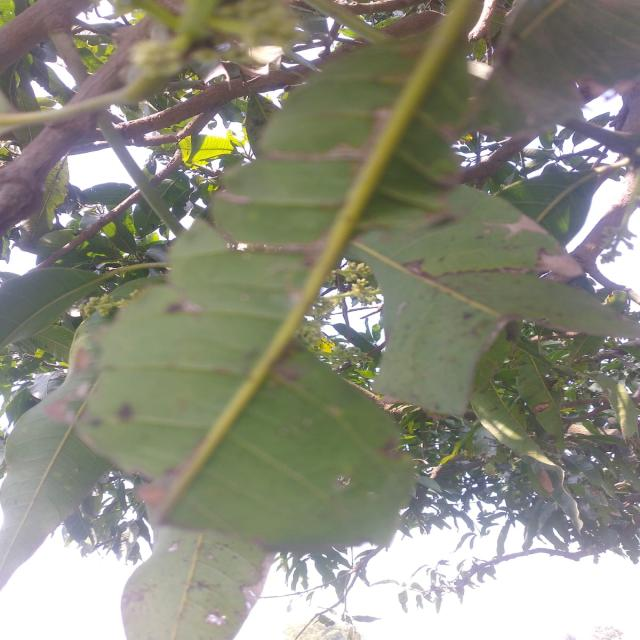Anthracnose: (484, 210, 548, 248), (535, 249, 586, 280), (403, 255, 436, 279), (536, 468, 556, 496), (115, 402, 138, 424), (166, 300, 203, 313), (204, 609, 229, 628), (530, 399, 552, 415)
